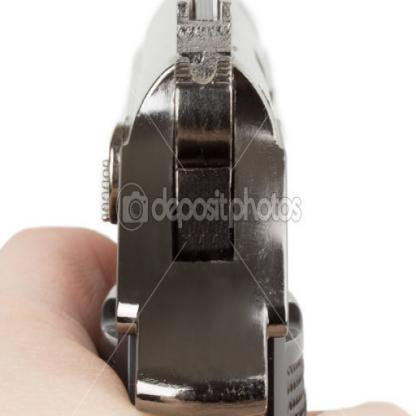gun: (82, 0, 318, 415)
